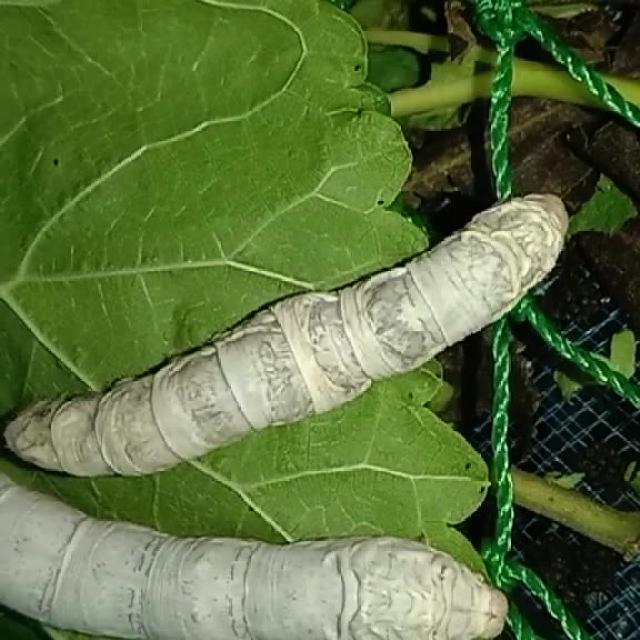Grasserie: (14, 148, 572, 483)
